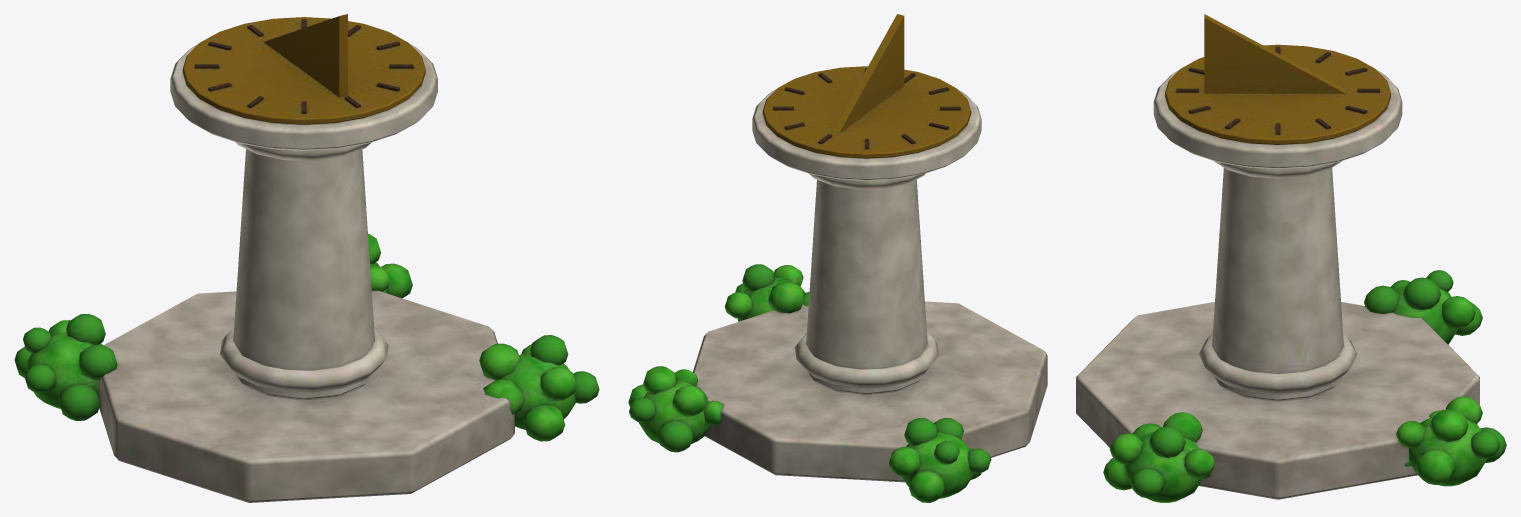
Rendered from sundial.glb.
3 views of the same model, side by side, from view 1: azimuth 30°, elevation 25°; view 2: azimuth 150°, elevation 25°; view 3: azimuth 270°, elevation 25° (orthographic). The views are drawn at different scales.
Visible parts, largest first — view 1: sundial; view 2: sundial; view 3: sundial.
Part boxes in pixels (x1=…): sundial: x1=14, y1=14, x2=599, y2=502; sundial: x1=628, y1=14, x2=1047, y2=502; sundial: x1=1076, y1=14, x2=1506, y2=502.
Size of the model in its own units: 0.8249 by 0.7925 by 0.7615.
Materials: 1 (1 with a texture image).
